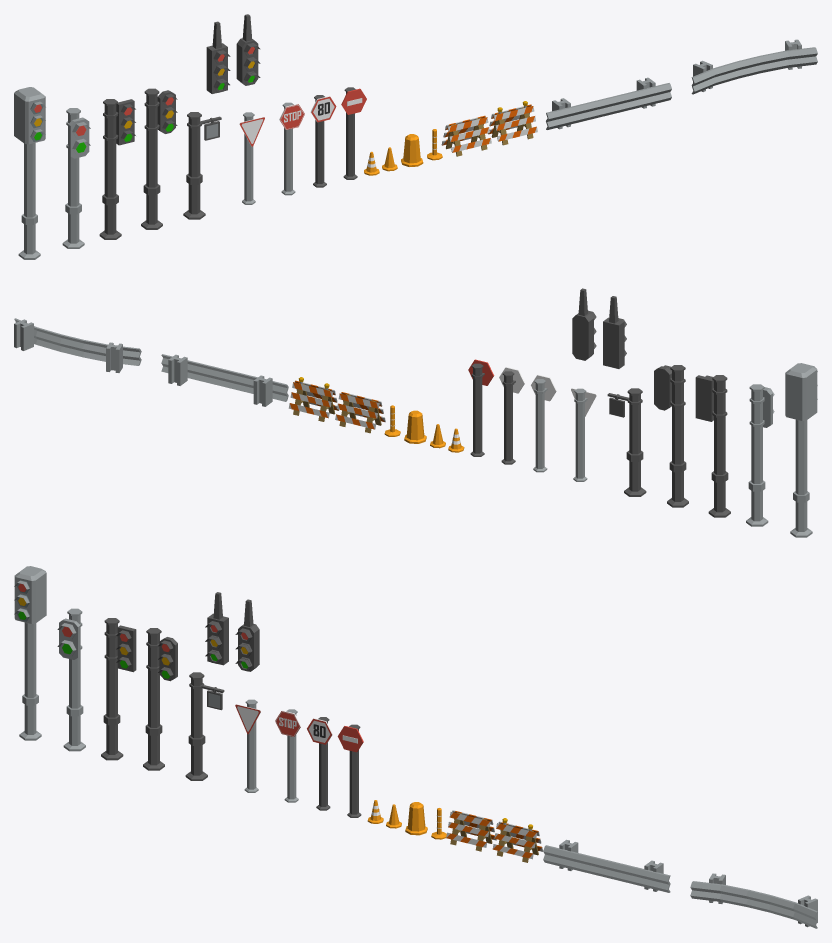
The model's file is road-traffic-pack.glb.
The picture shows the model from 3 angles, top to bottom: view 1: azimuth 30°, elevation 25°; view 2: azimuth 150°, elevation 25°; view 3: azimuth 330°, elevation 25°; orthographic projection.
Visible parts, largest first — view 1: Plane.002, Plane.001, Cylinder.010, Cylinder.029, Cylinder.016, Cylinder, Cylinder.003, Cylinder.001, Cube.013, Cube.018, Cylinder.022, Cylinder.025 (+8 smaller); view 2: Cylinder.003, Cylinder.010, Cylinder.016, Cylinder.029, Cylinder.001, Plane.001, Plane.002, Cylinder, Cube.013, Cube, Cube.018, Cylinder.027 (+11 smaller); view 3: Plane.002, Plane.001, Cylinder.010, Cylinder.016, Cylinder.029, Cylinder, Cylinder.003, Cylinder.001, Cube.018, Cube.013, Cylinder.022, Cylinder.023 (+2 smaller).
Boxes of the visible parts, <box> form: Plane.002: <box>691,47,817,94</box>; Plane.001: <box>546,83,671,129</box>; Cylinder.010: <box>99,99,121,239</box>; Cylinder.029: <box>183,112,221,219</box>; Cylinder.016: <box>141,88,162,229</box>; Cylinder: <box>18,143,40,259</box>; Cylinder.003: <box>62,108,84,248</box>; Cylinder.001: <box>14,87,45,144</box>; Cube.013: <box>441,115,491,152</box>; Cube.018: <box>487,104,537,141</box>; Cylinder.022: <box>242,112,255,204</box>; Cylinder.025: <box>313,95,326,187</box>; Cylinder.003: <box>746,384,768,526</box>; Cylinder.010: <box>708,375,730,517</box>; Cylinder.016: <box>667,365,688,507</box>; Cylinder.029: <box>607,388,646,496</box>; Cylinder.001: <box>785,363,817,420</box>; Plane.001: <box>161,354,288,401</box>; Plane.002: <box>14,318,141,365</box>; Cylinder: <box>790,419,812,537</box>; Cube.013: <box>335,392,385,429</box>; Cube: <box>603,317,624,368</box>; Cube.018: <box>288,380,339,418</box>; Cylinder.027: <box>470,363,484,456</box>; Plane.002: <box>690,881,817,928</box>; Plane.001: <box>543,845,670,892</box>; Cylinder.010: <box>101,618,123,760</box>; Cylinder.016: <box>143,628,164,770</box>; Cylinder.029: <box>185,672,224,780</box>; Cylinder: <box>19,622,41,740</box>; Cylinder.003: <box>63,608,85,751</box>; Cylinder.001: <box>14,566,46,623</box>; Cube.018: <box>492,821,543,859</box>; Cube.013: <box>446,810,496,847</box>; Cylinder.022: <box>244,699,258,792</box>; Cylinder.023: <box>284,709,298,802</box>.
Bounding box in the file's own units: 25.3 × 5.74 × 1.
Materials: 13 (1 with a texture image).
